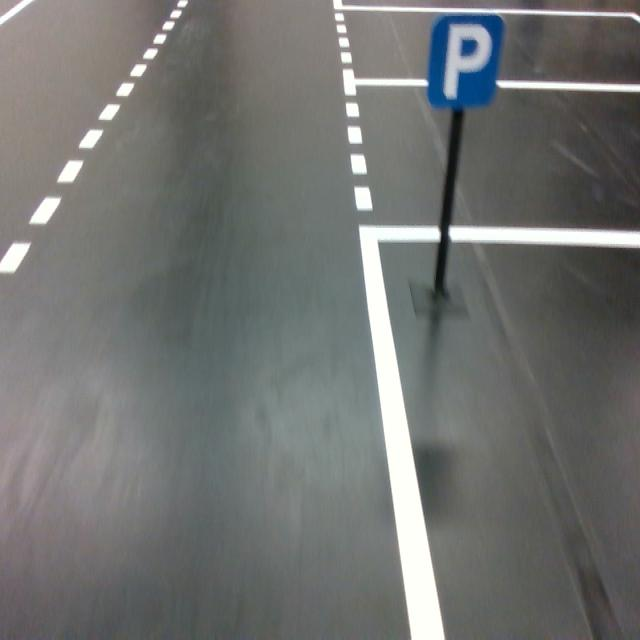parking-sign: (427, 12, 504, 108)
